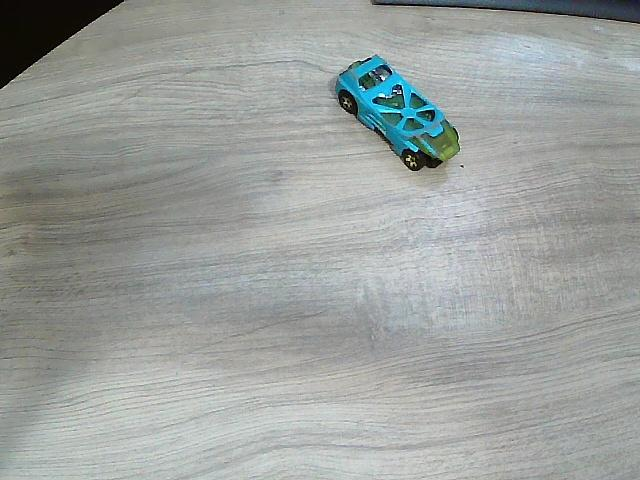Carro: (333, 56, 461, 171)
